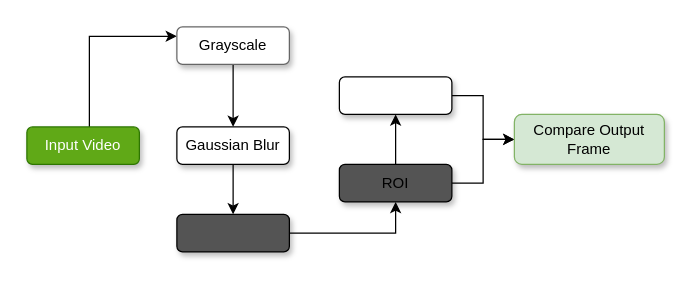
The diagram is 694 pixels wide and 283 high, and some of its shapes have lost their labels. Here are the shapes that lost their labels. From the top down, the centre of each, then its label:
At [396,97]: "Hough Line".
At [234,234]: "Canny Edge".
